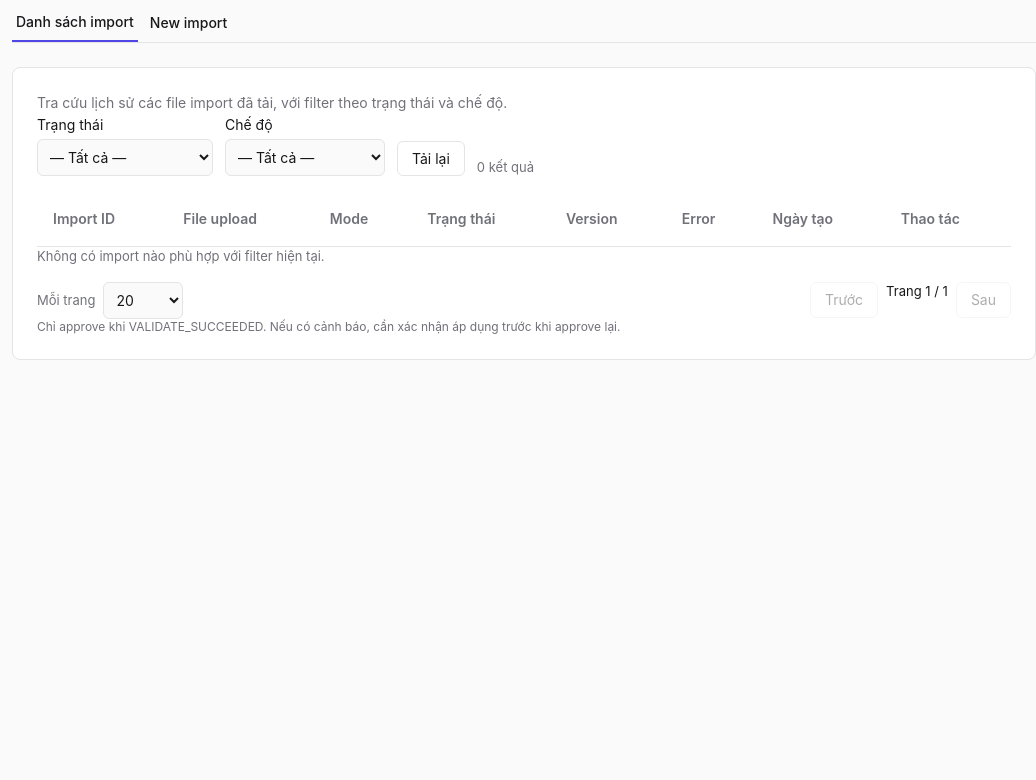
Test: screen switches between the Danh sách import tab and the import form tab
Expected: the text "Không có import nào phù hợp với filter hiện tại." is shown, [37,248,325,264]
Step 1. Click the button "New import" → (189, 27), box [146,12,231,42]
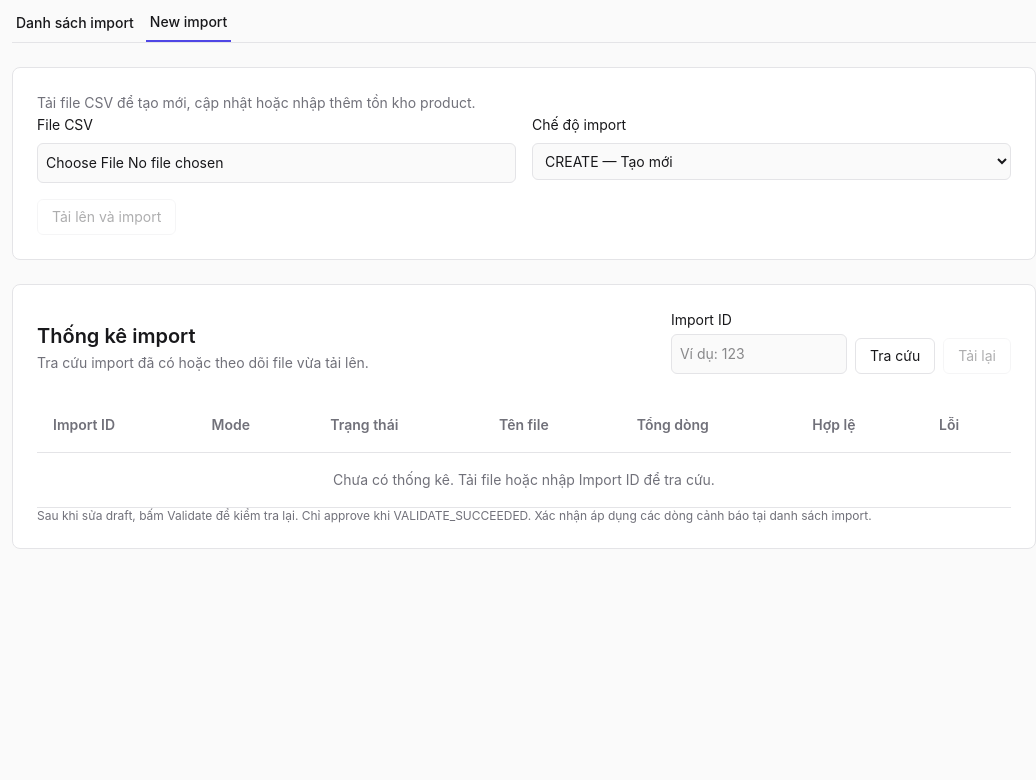
Expected: the file field labelled "File CSV" is shown, [37,143,516,183]
Expected: the button "Tải lên và import" is shown, [37,199,176,235]
Step 2. Click the button "Danh sách import" → (75, 27), box [12,12,138,42]
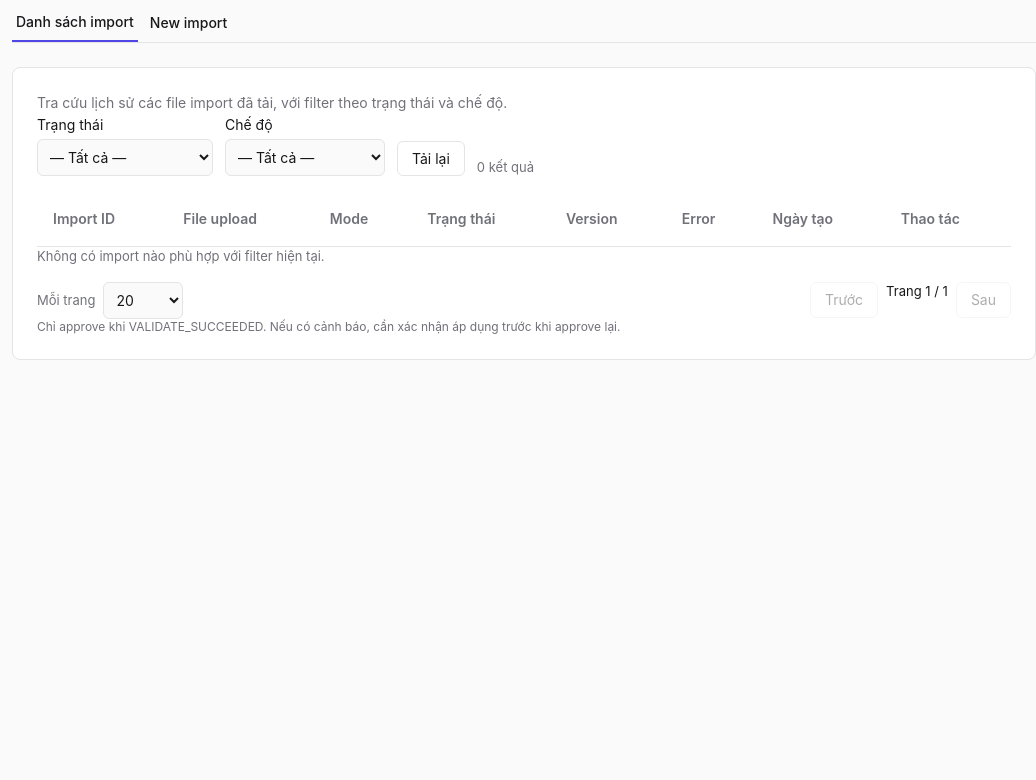
Expected: the text "Không có import nào phù hợp với filter hiện tại." is shown, [37,248,325,264]
